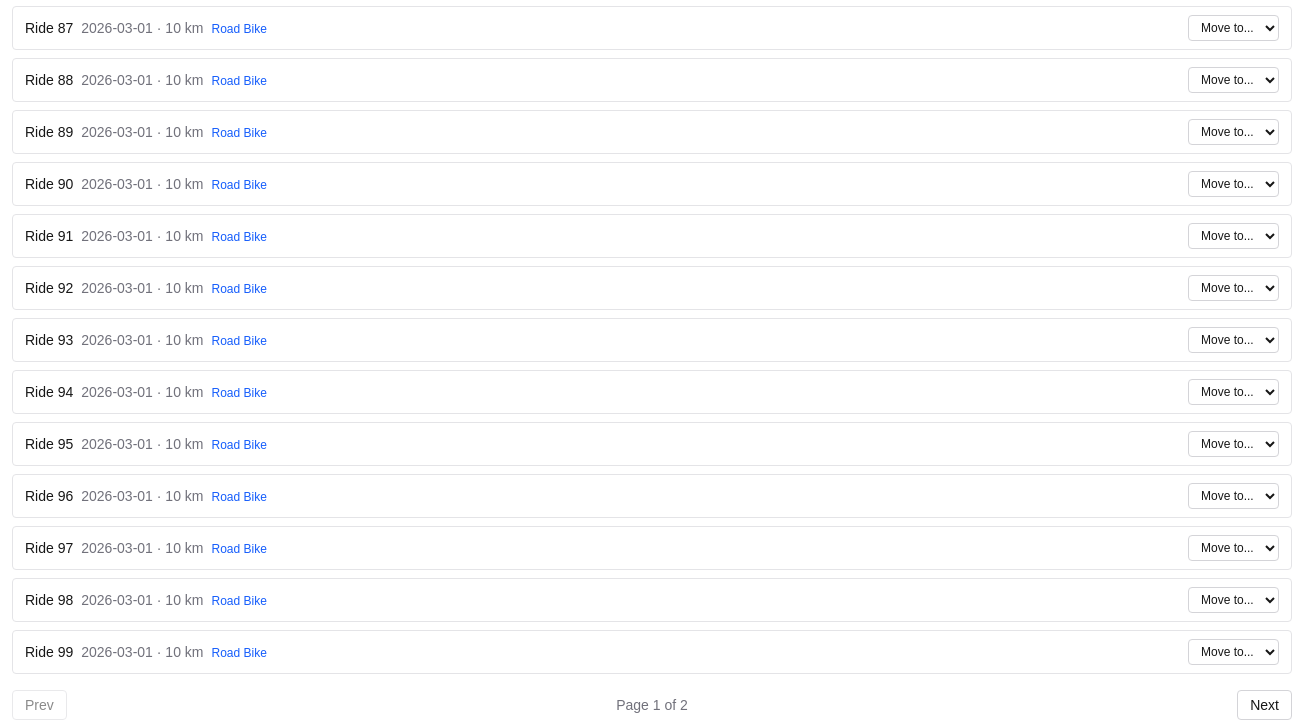
Test: AllRideList › pagination › navigates to next page
(page scrolled)
Click the button "Next": (1265, 705) [1237,690,1292,719]
(page scrolled)
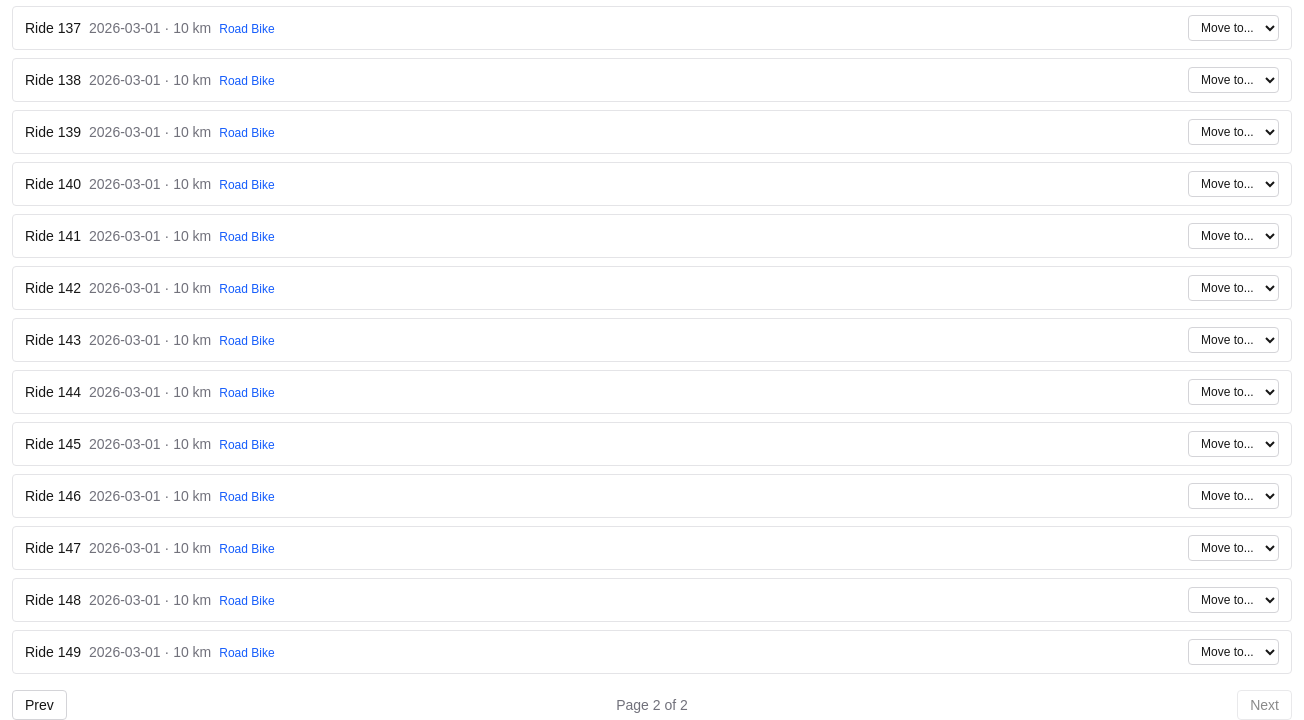
Now the text "Page 2 of 2" is shown, box [616,695,688,715]
